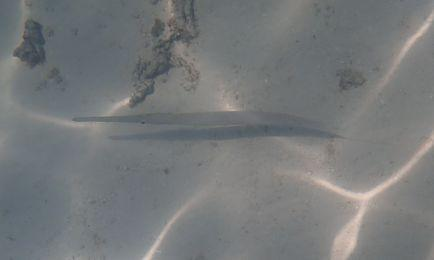Fistularia commersonii: (63, 98, 361, 153)
